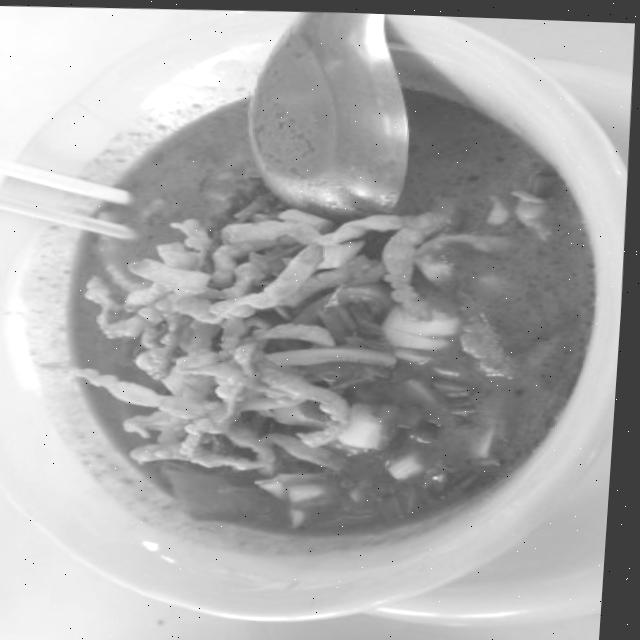面条主食: (0, 0, 640, 628)
